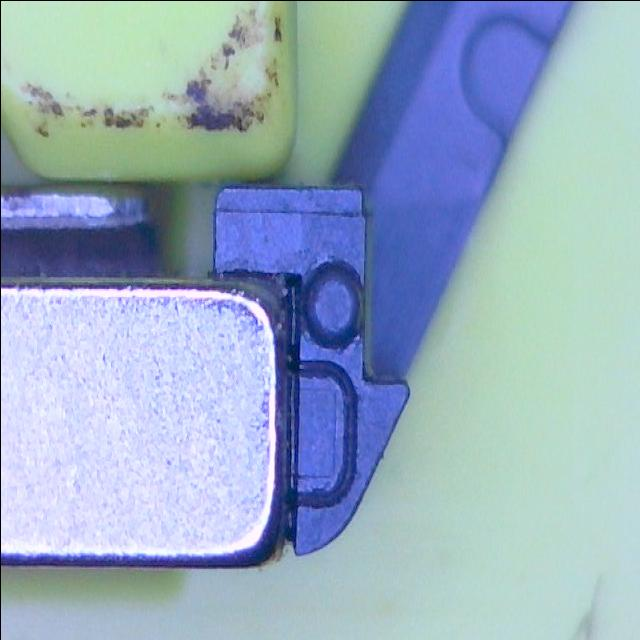lacking: (292, 356, 358, 511)
